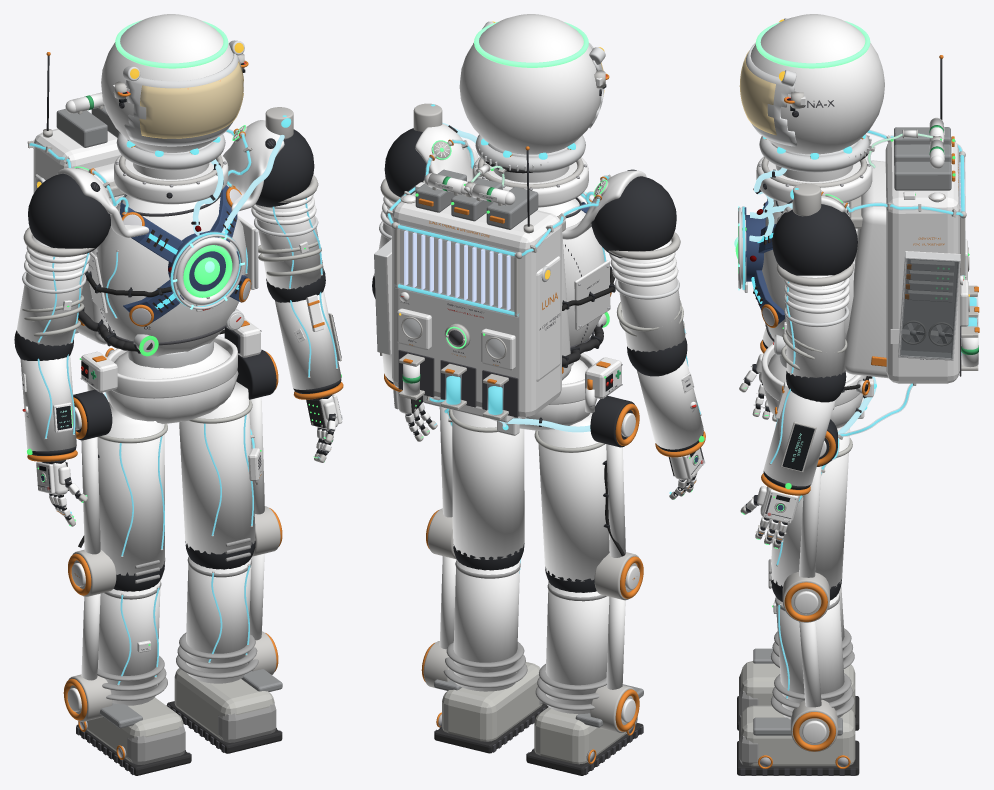
The model's file is suit.glb.
3 views of the same model, side by side, from view 1: azimuth 30°, elevation 25°; view 2: azimuth 150°, elevation 25°; view 3: azimuth 270°, elevation 25° (orthographic).
Visible parts, largest first — view 1: Torso, Thigh_R, Thigh_L, Helmet, Visor_Frame, Shin_R, Shin_L, Visor_Gold, Shoulder_L, Pelvis, Forearm_R, Forearm_L (+53 smaller); view 2: Backpack_Housing, Helmet, Thigh_R, Thigh_L, Shin_R, Shin_L, Shoulder_L, Boot_R, UpperArm_L, Forearm_L, Boot_L, Torso (+44 smaller); view 3: Helmet, Backpack_Housing, Backpack_Mount_Frame, BP_Smoked_Window, Thigh_R, Shoulder_R, Shin_R, UpperArm_R, Boot_R, Forearm_R, Visor_Frame, BP_Bay_Back (+45 smaller).
Boxes of the visible parts, x1,y1,x2,y2 form: Torso: [97, 195, 246, 356]; Thigh_R: [179, 381, 255, 554]; Thigh_L: [97, 402, 165, 575]; Helmet: [101, 14, 233, 152]; Visor_Frame: [124, 53, 243, 146]; Shin_R: [186, 556, 251, 683]; Shin_L: [98, 580, 160, 705]; Visor_Gold: [139, 61, 243, 138]; Shoulder_L: [28, 173, 110, 254]; Pelvis: [105, 342, 238, 423]; Forearm_R: [275, 290, 341, 389]; Forearm_L: [20, 355, 76, 451]; Backpack_Housing: [392, 191, 561, 418]; Helmet: [459, 14, 602, 154]; Thigh_R: [452, 410, 524, 559]; Thigh_L: [538, 405, 609, 581]; Shin_R: [453, 559, 519, 691]; Shin_L: [545, 581, 609, 713]; Shoulder_L: [591, 176, 676, 257]; Boot_R: [442, 662, 542, 741]; UpperArm_L: [616, 239, 685, 351]; Forearm_L: [637, 358, 703, 449]; Boot_L: [534, 707, 626, 764]; Torso: [537, 198, 605, 346]; Helmet: [750, 14, 884, 154]; Backpack_Housing: [885, 139, 959, 383]; Backpack_Mount_Frame: [845, 160, 888, 378]; BP_Smoked_Window: [900, 259, 958, 359]; Thigh_R: [771, 426, 850, 589]; Shoulder_R: [772, 204, 857, 275]; Shin_R: [775, 593, 844, 719]; UpperArm_R: [786, 275, 845, 377]; Boot_R: [741, 705, 855, 766]; Forearm_R: [763, 388, 835, 486]; Visor_Frame: [741, 42, 797, 146]; BP_Bay_Back: [898, 251, 960, 352].
Size of what is drawn, in the model's own units: 0.9016 by 1.94 by 0.6009.
